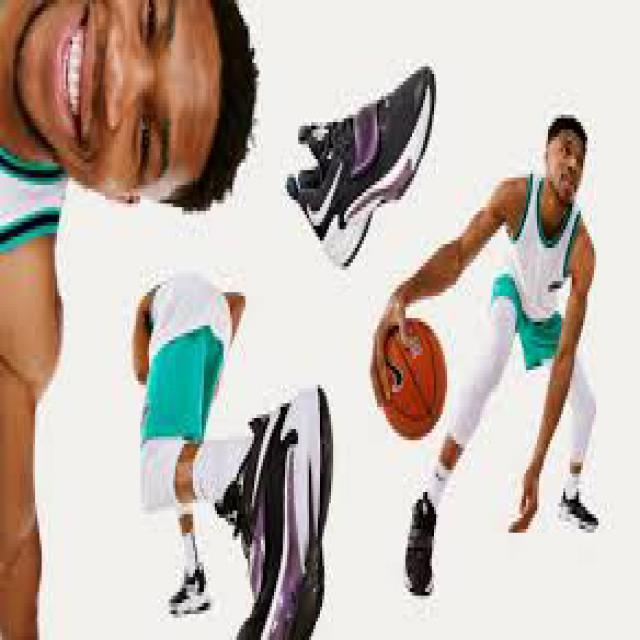basketball: (374, 318, 450, 444)
